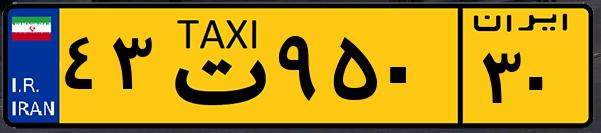0: (385, 28, 445, 110), (525, 38, 570, 115)
3: (475, 38, 525, 113), (110, 28, 158, 98)
4: (57, 26, 110, 100)
5: (330, 28, 385, 110)
9: (270, 28, 330, 110)
ت: (158, 12, 270, 120)
